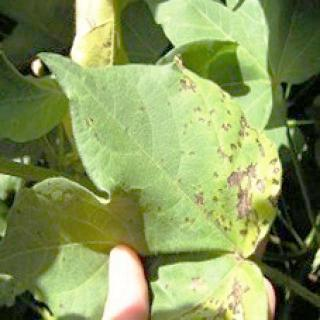blight: (170, 64, 280, 320)
